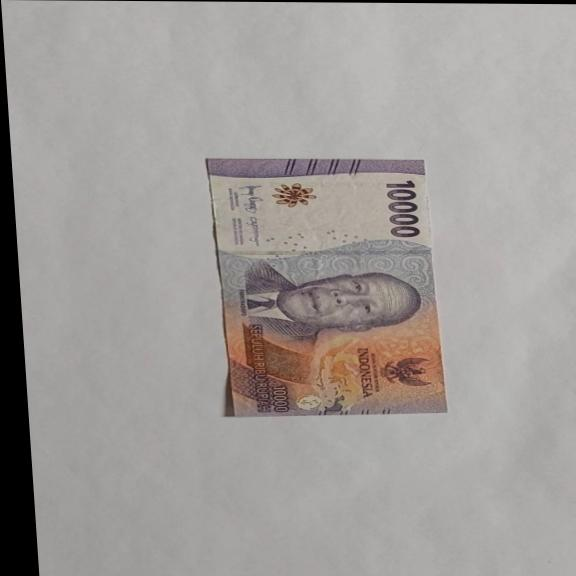Kertas: (205, 157, 448, 419), (383, 179, 423, 239)
